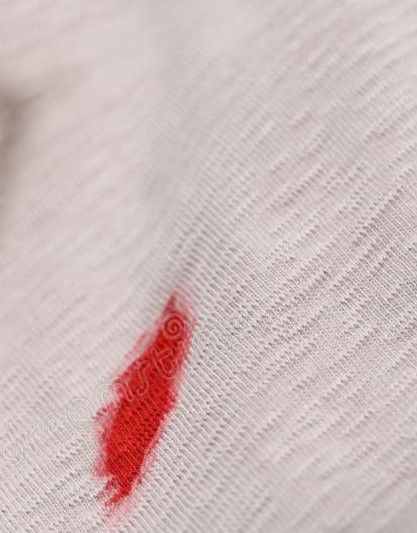stain: (86, 296, 206, 511)
